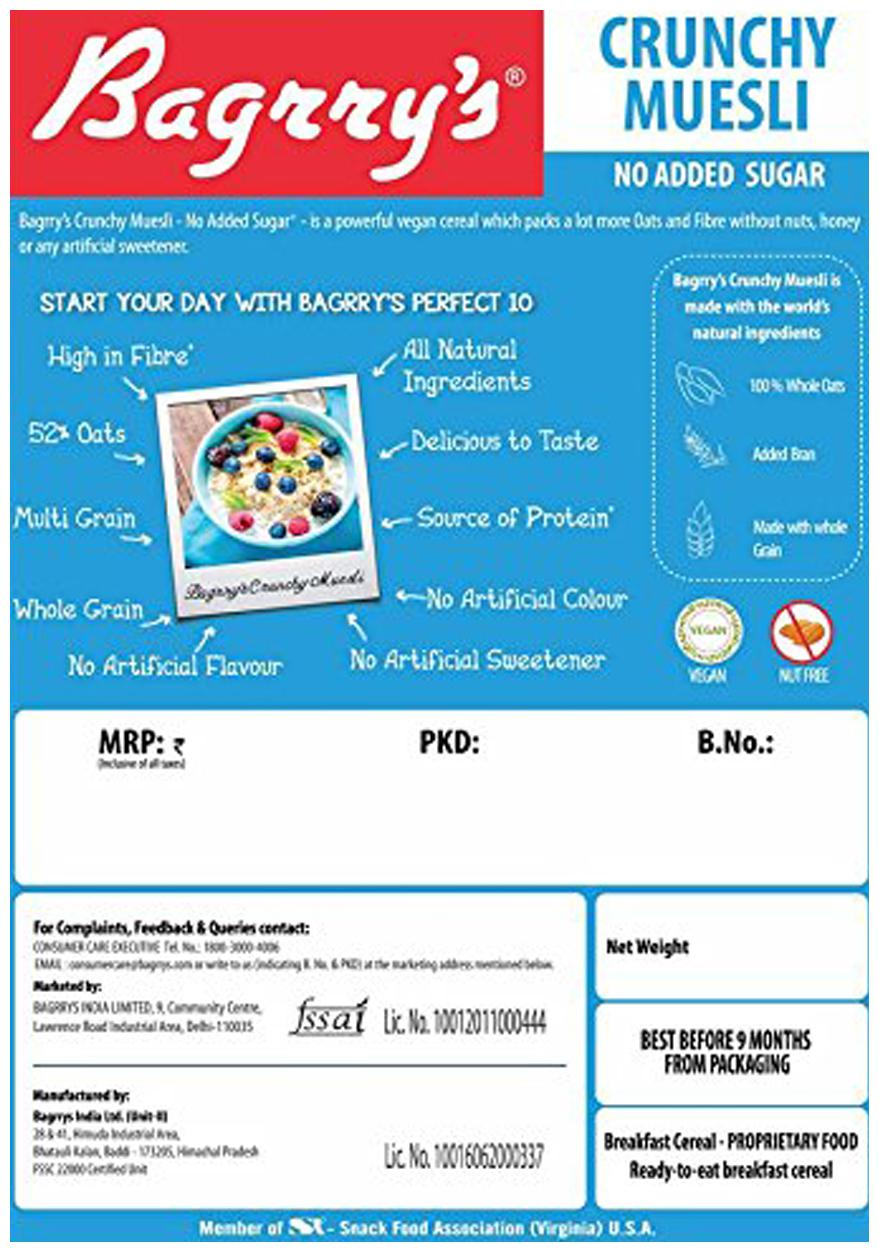fssai: (288, 997, 370, 1036)
